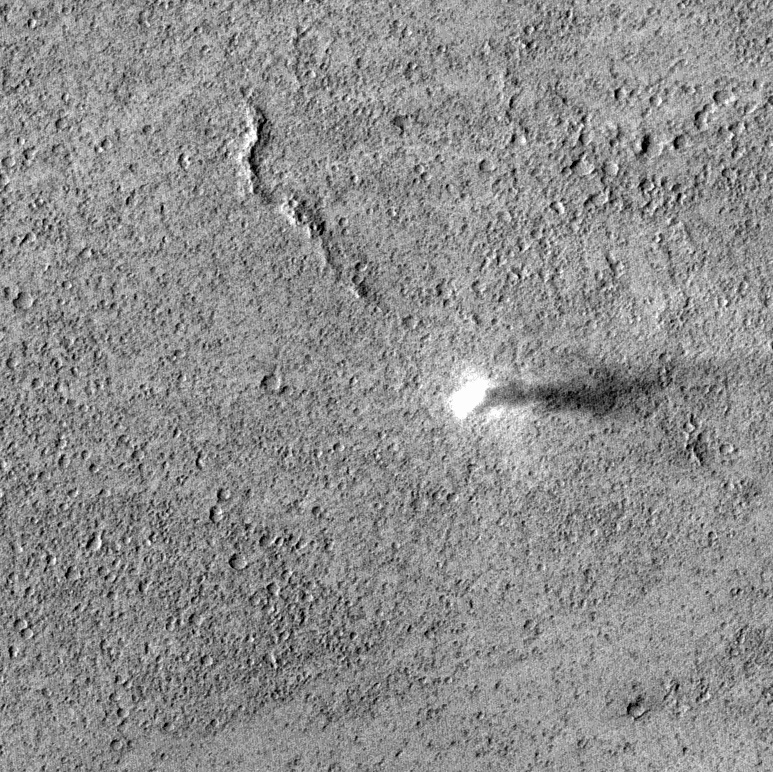dust_devil: (441, 359, 691, 425)
